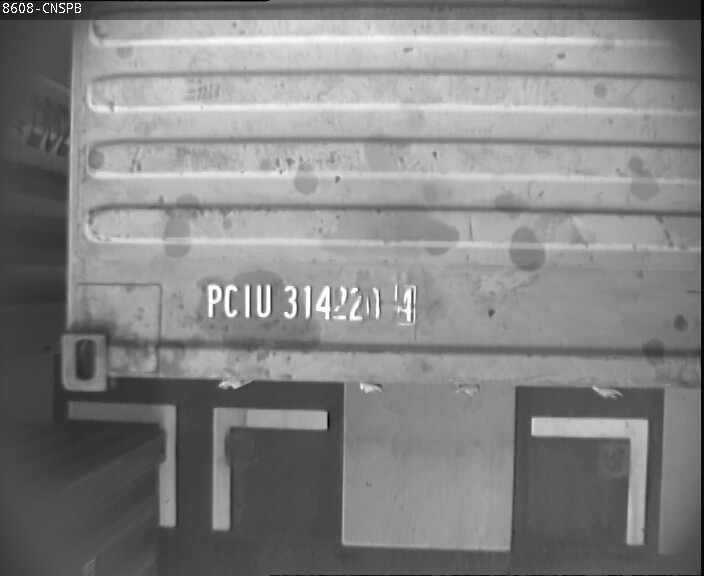groundmarker_1: (66, 400, 327, 529)
